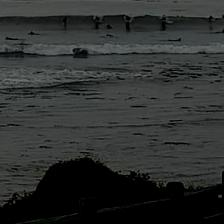surfer: (5, 36, 18, 40), (28, 31, 40, 35), (106, 24, 113, 30), (168, 38, 181, 41), (62, 17, 67, 24), (215, 30, 223, 34), (125, 16, 131, 21), (161, 15, 167, 20), (94, 16, 100, 20), (208, 16, 214, 20), (222, 15, 224, 19)
